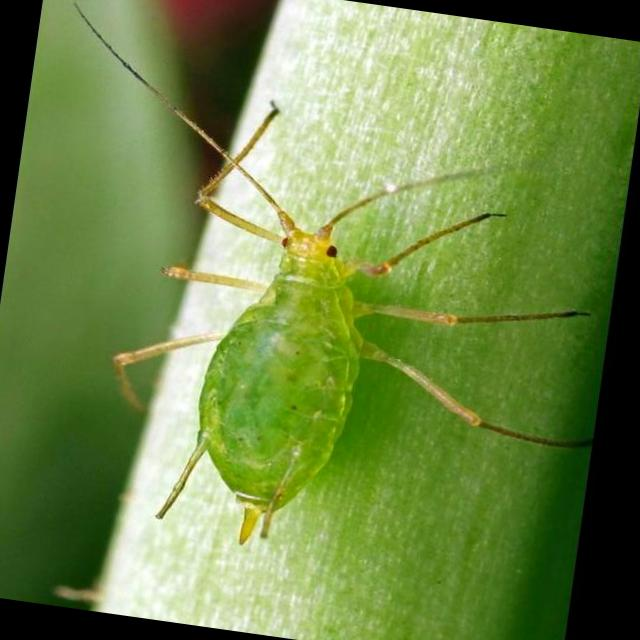aphid: (114, 77, 566, 578)
